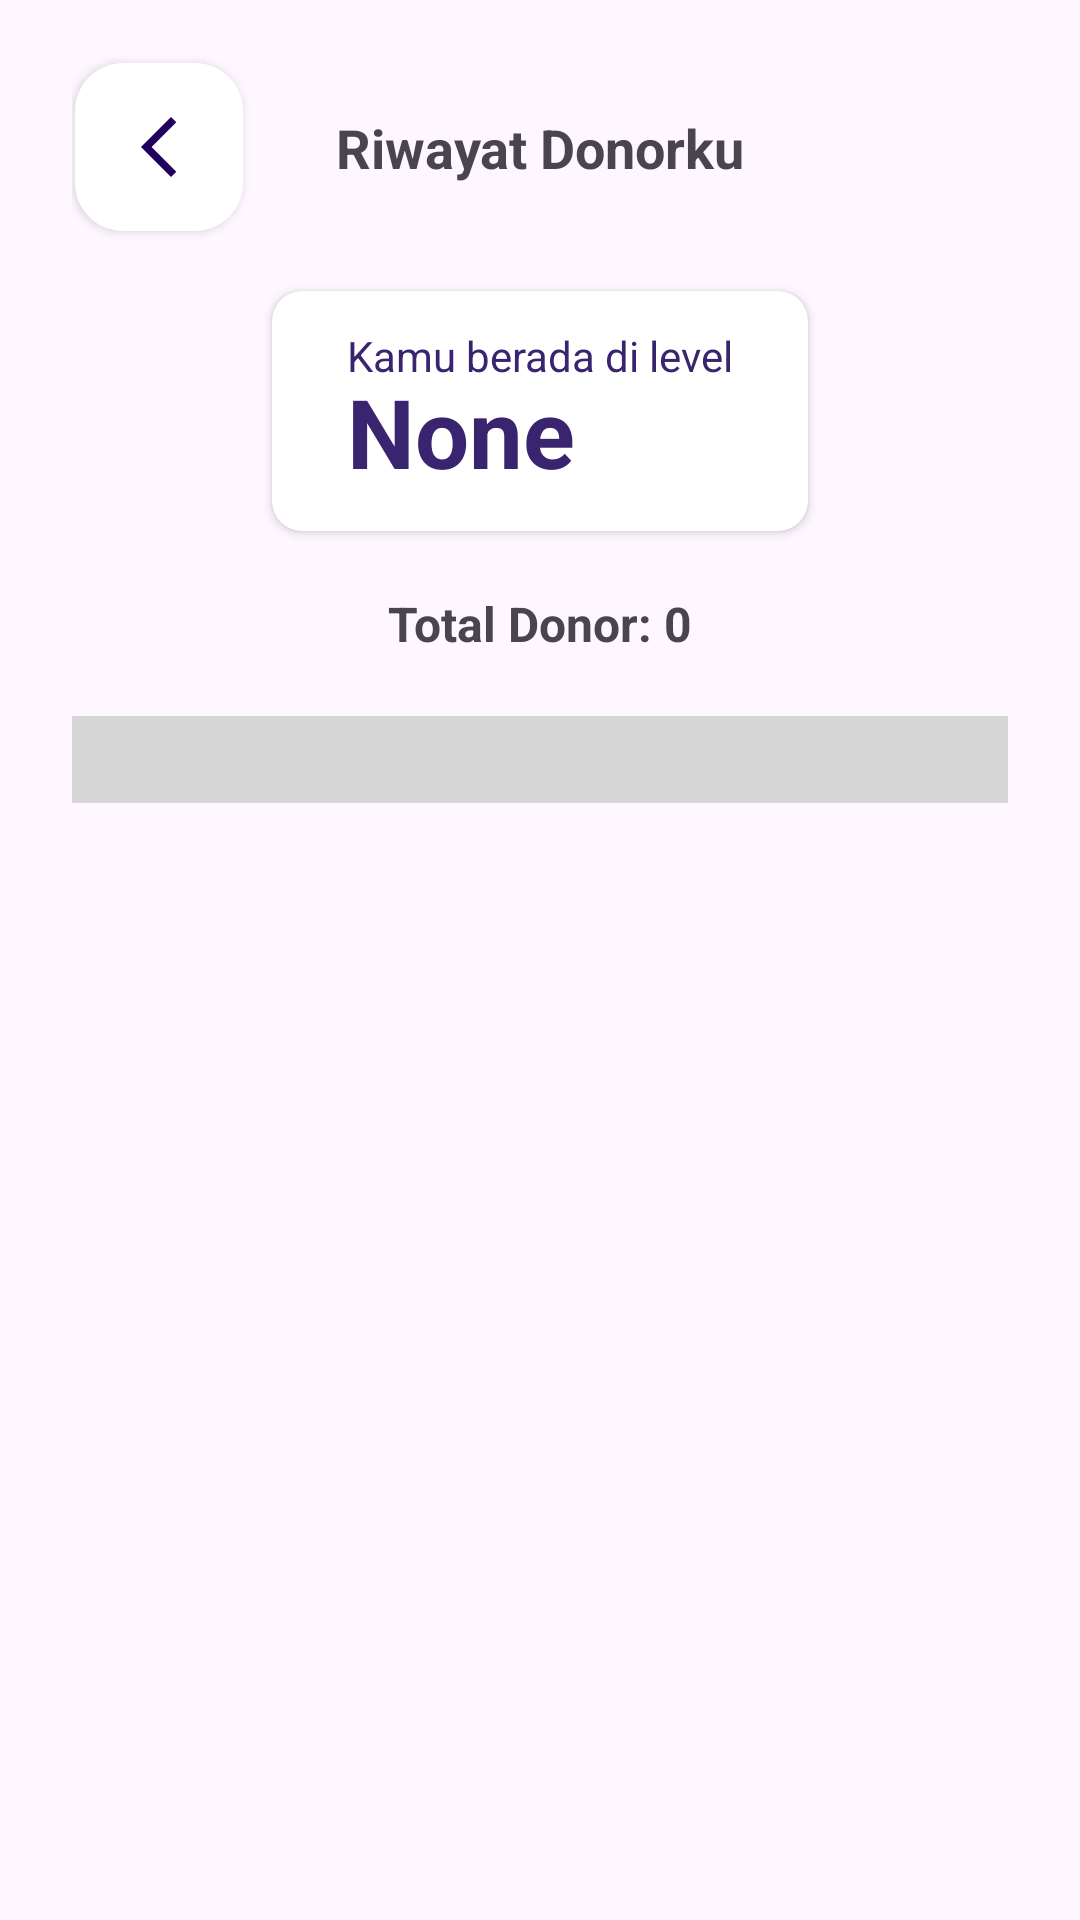

Named icons in this screenshot (1080px×1920px) and their centers, (x=x, y=y):
back: (x=148, y=147)
